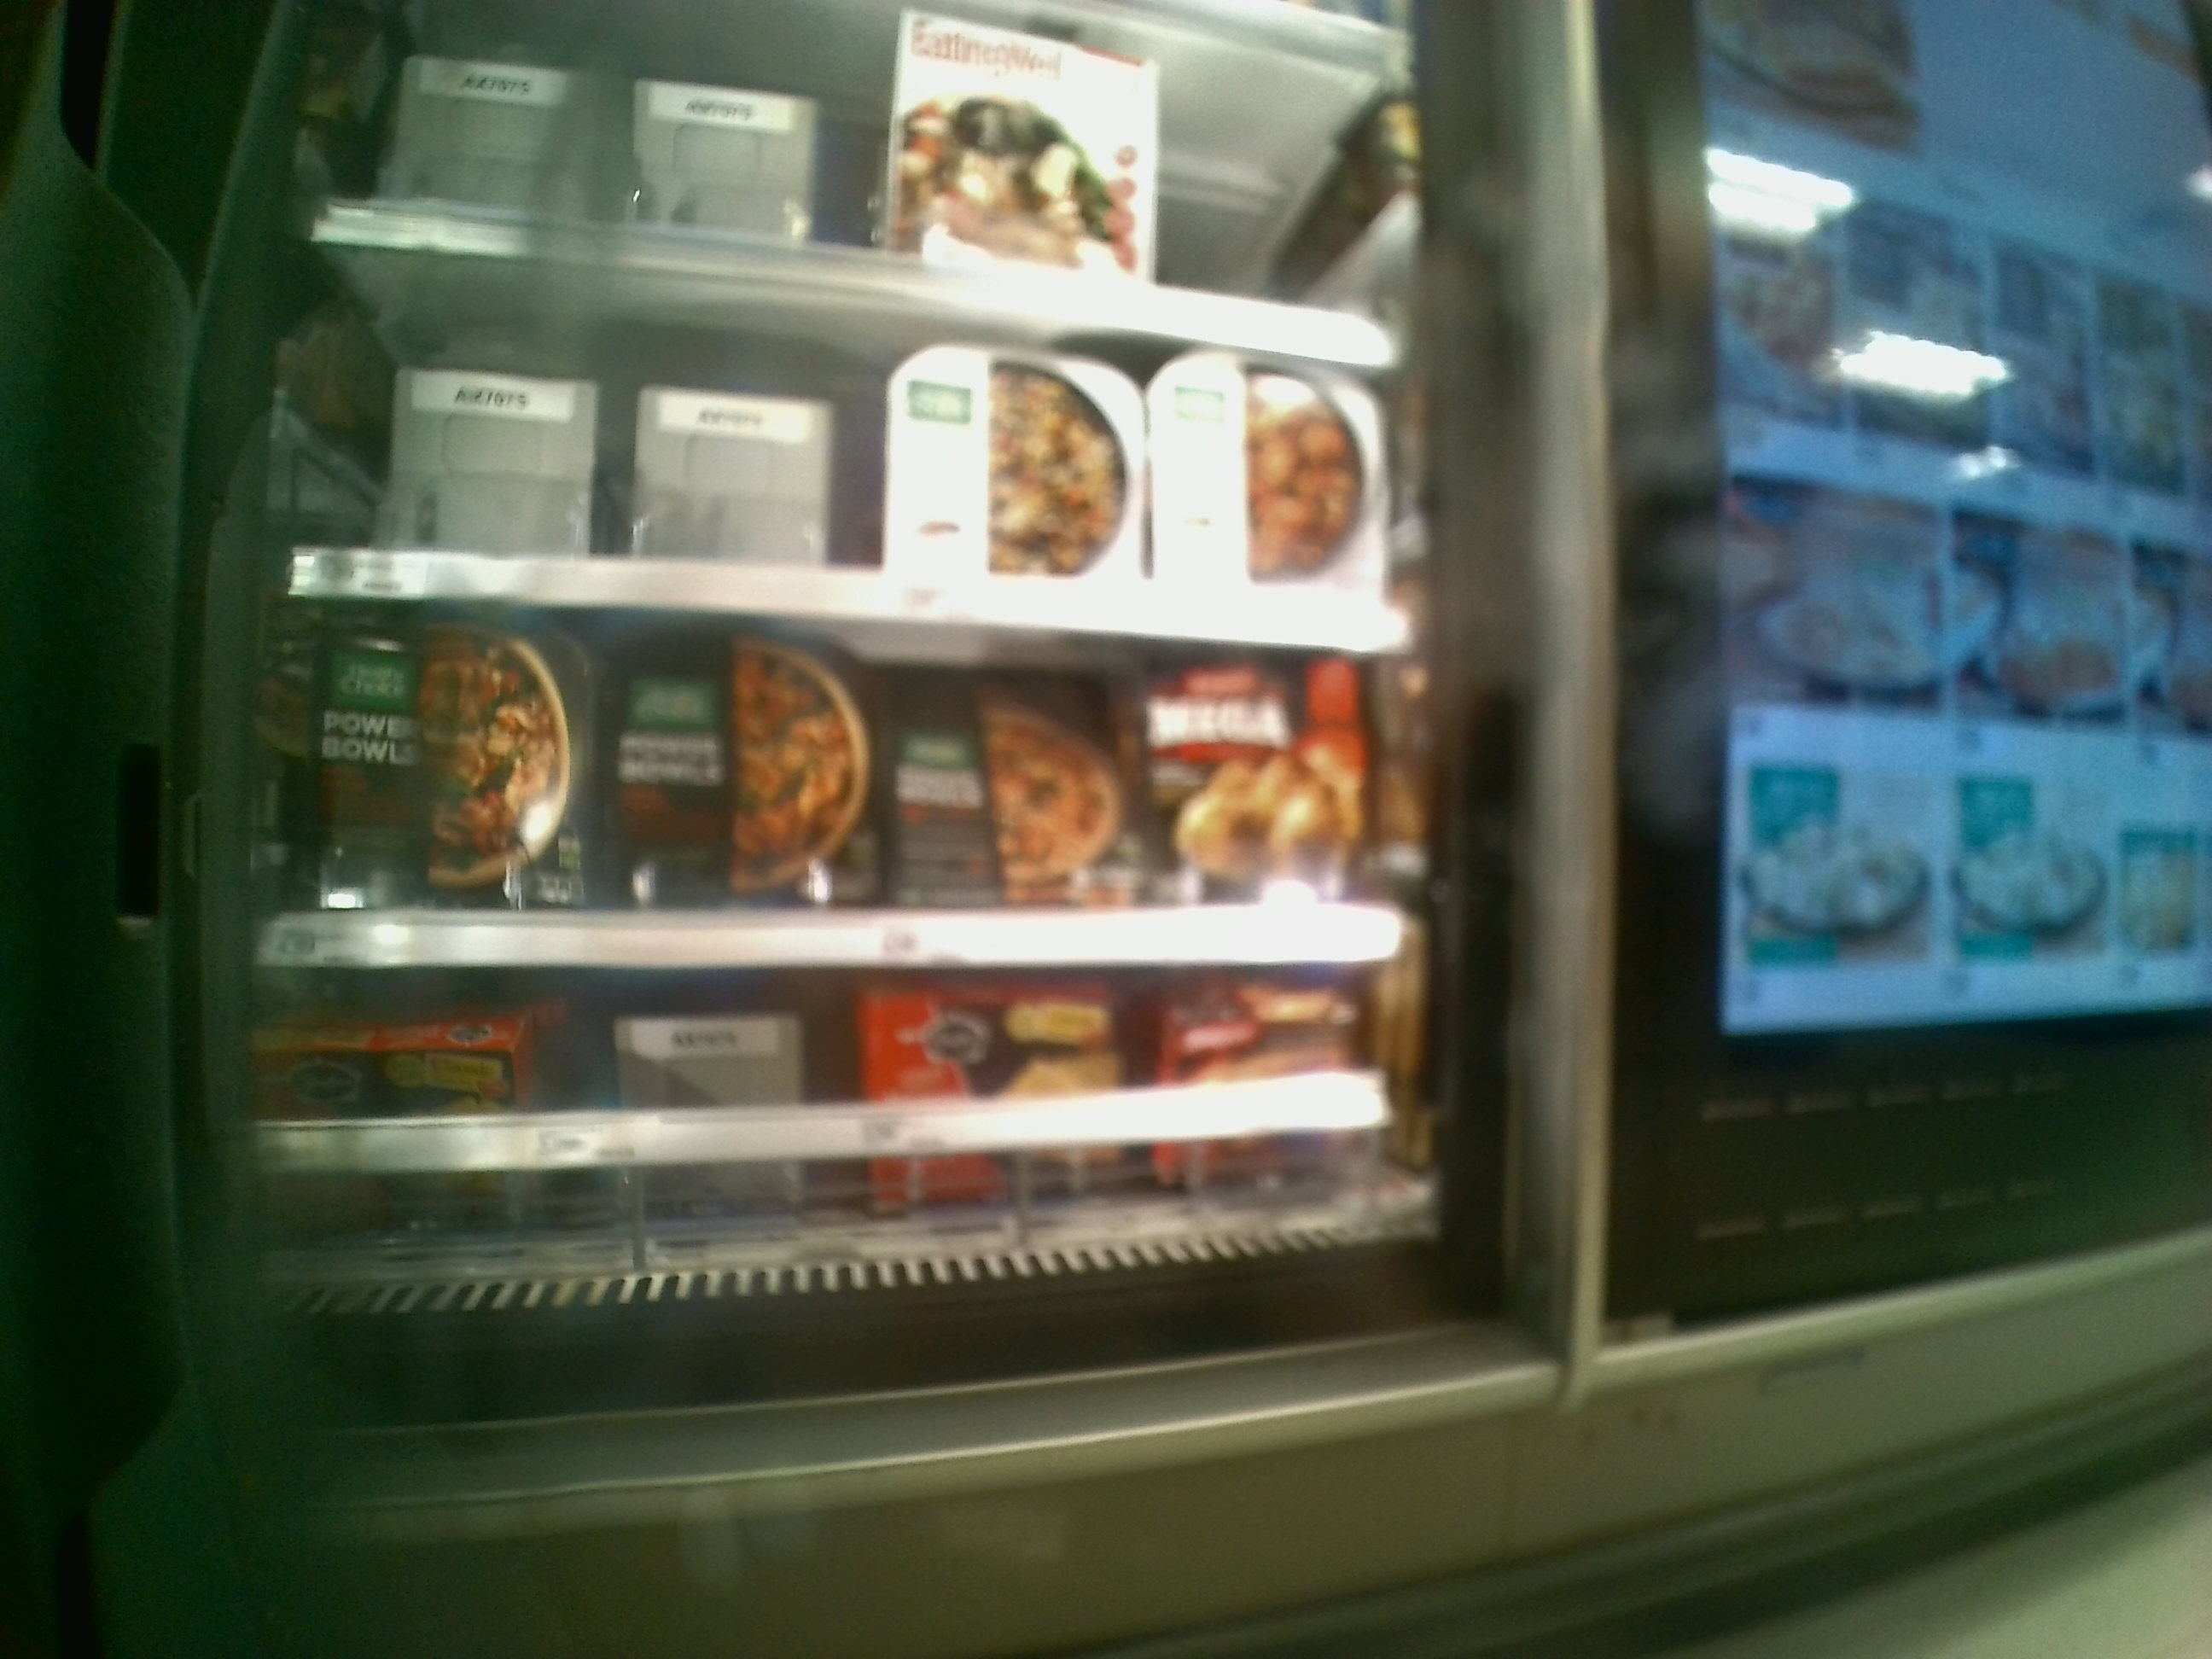Shelf: (261, 586, 1413, 962), (240, 967, 1428, 1274)
